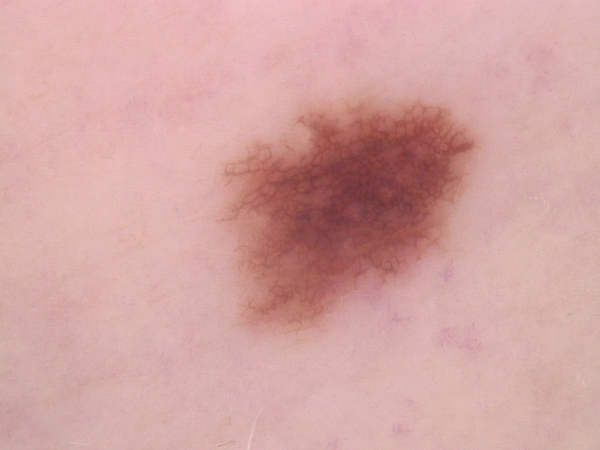Detected Lesion: (212, 90, 480, 338)
